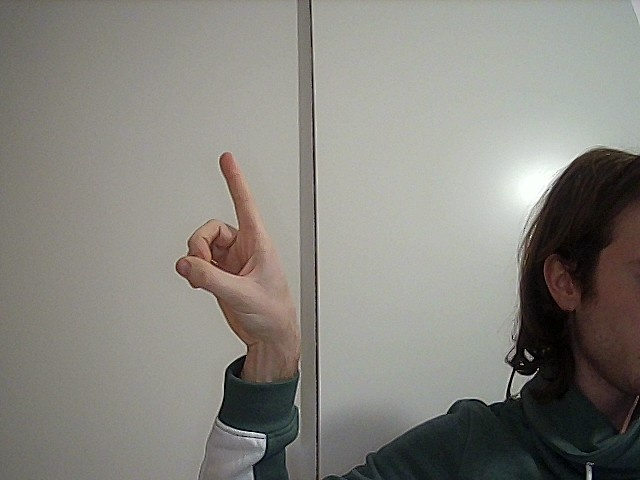d: (164, 144, 337, 376)
